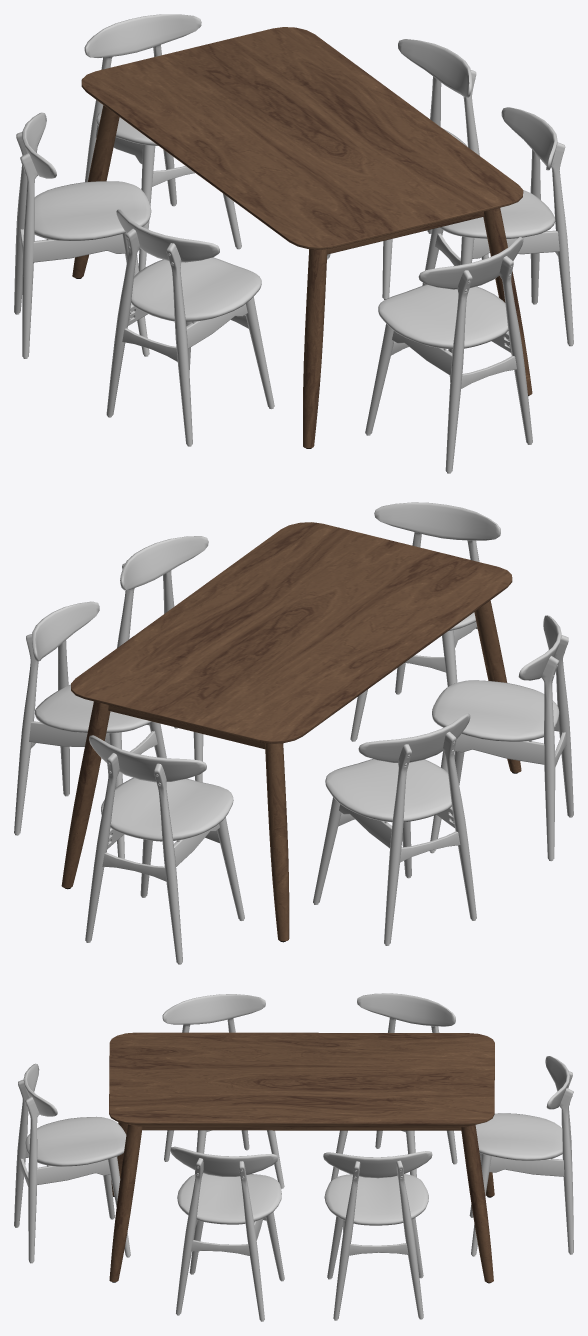
The model's file is Table and chairs.fbx.
3 renders of one model, top to bottom at view 1: azimuth 30°, elevation 25°; view 2: azimuth 150°, elevation 25°; view 3: azimuth 270°, elevation 25°, orthographic. The views are drawn at different scales.
Visible parts, largest first — view 1: table, chair2, chair6, chair1, chair5, chair3, chair4; view 2: table, chair1, chair3, chair2, chair4, chair6, chair5; view 3: table, chair5, chair4, chair6, chair3, chair2, chair1.
Boxes of the visible parts, bbox=[...] form: table: bbox=[72, 27, 532, 448]; chair2: bbox=[106, 209, 274, 446]; chair6: bbox=[365, 237, 532, 473]; chair1: bbox=[14, 112, 151, 358]; chair5: bbox=[422, 107, 573, 346]; chair3: bbox=[84, 14, 241, 271]; chair4: bbox=[327, 39, 488, 299]; table: bbox=[61, 522, 521, 942]; chair1: bbox=[313, 713, 476, 945]; chair3: bbox=[85, 735, 244, 964]; chair2: bbox=[429, 615, 573, 861]; chair4: bbox=[14, 601, 166, 858]; chair6: bbox=[350, 502, 500, 741]; chair5: bbox=[117, 536, 208, 782]; table: bbox=[109, 1032, 494, 1283]; chair5: bbox=[170, 1146, 284, 1321]; chair4: bbox=[323, 1151, 432, 1320]; chair6: bbox=[14, 1063, 130, 1263]; chair3: bbox=[469, 1056, 573, 1256]; chair2: bbox=[162, 994, 284, 1188]; chair1: bbox=[331, 993, 457, 1180].
Bounding box in the file's own units: 172 × 73.95 × 233.
